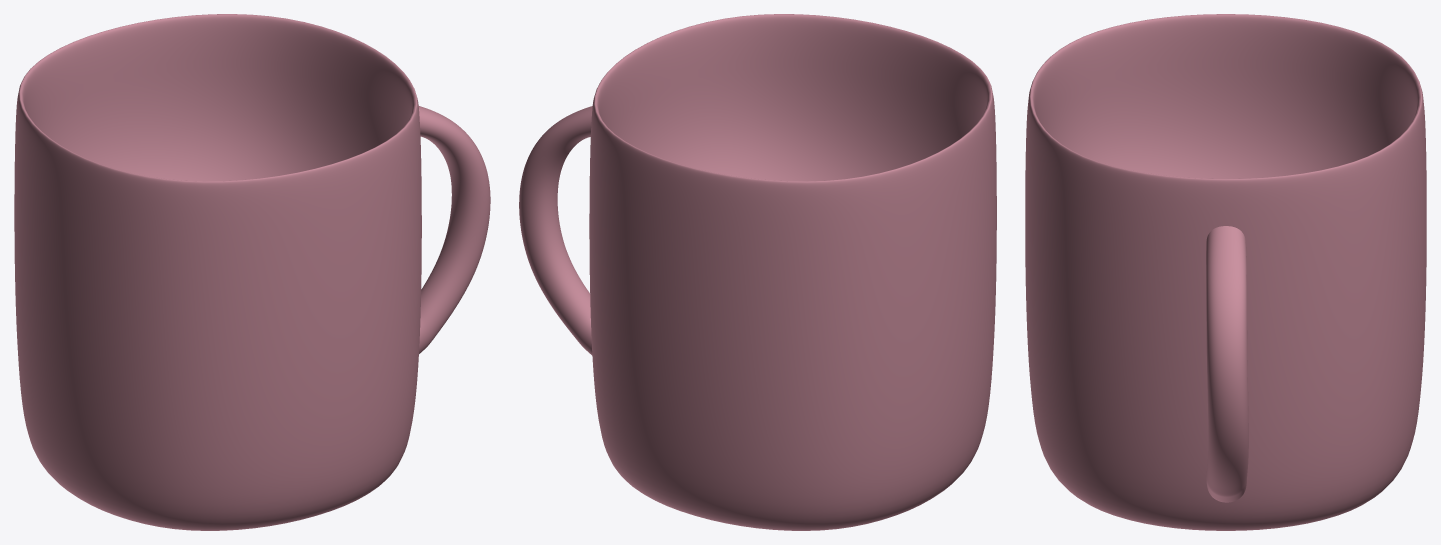
File: mug.fbx
3 views of the same model, side by side, from view 1: azimuth 30°, elevation 25°; view 2: azimuth 150°, elevation 25°; view 3: azimuth 270°, elevation 25° (orthographic).
Parts seen in each view (by area): view 1: Cube; view 2: Cube; view 3: Cube.
Boxes of the visible parts, <box> form: Cube: <box>14,14,490,530</box>; Cube: <box>519,14,996,530</box>; Cube: <box>1025,14,1426,530</box>.
Size of the model in its own units: 38.66 by 30.63 by 30.18.
